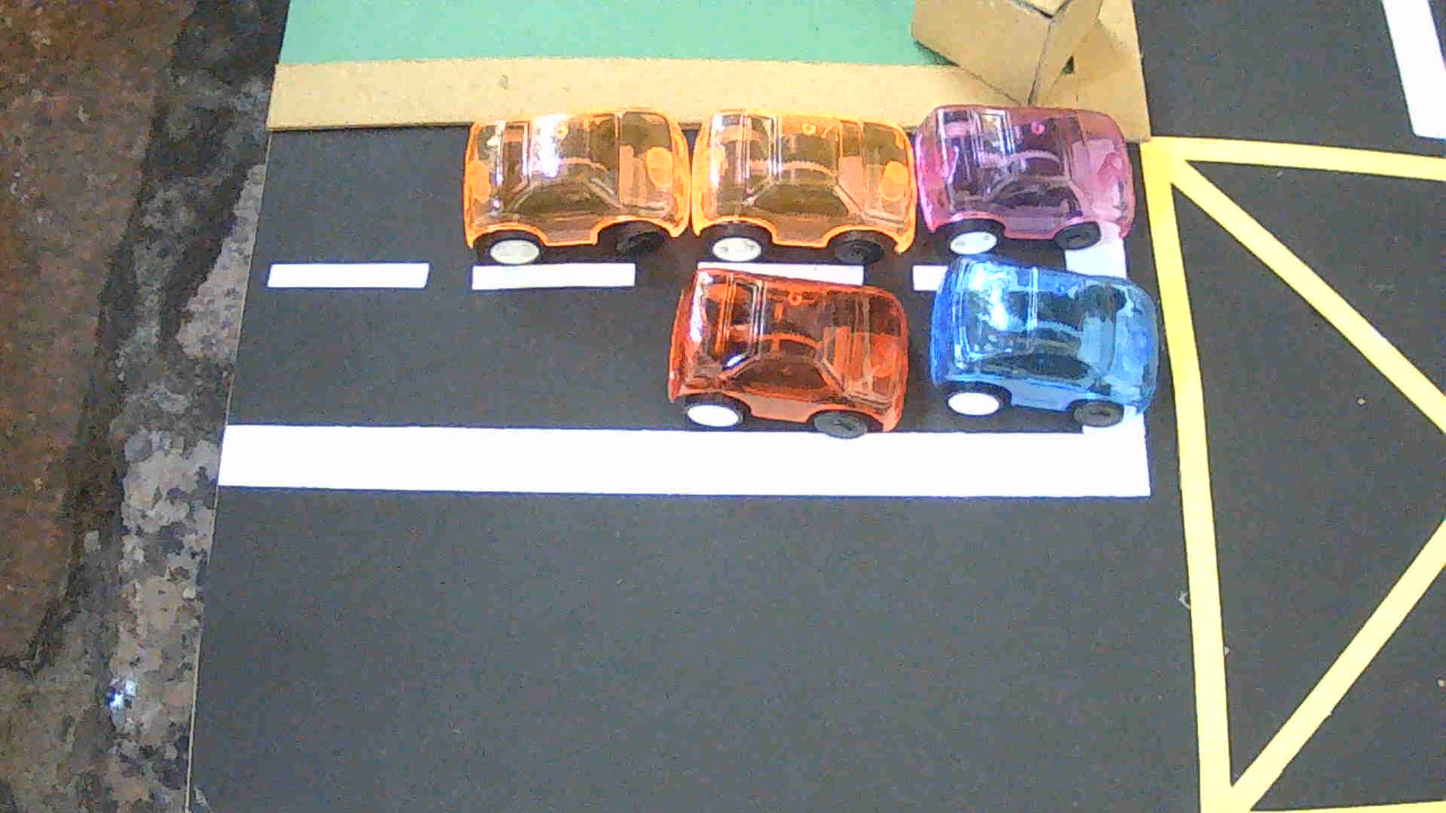Mobil biru: (930, 255, 1159, 427)
Mobil merah: (668, 266, 908, 438)
Mobil orange: (462, 109, 688, 263), (692, 109, 915, 264)
Mobil ungu: (914, 105, 1135, 255)
